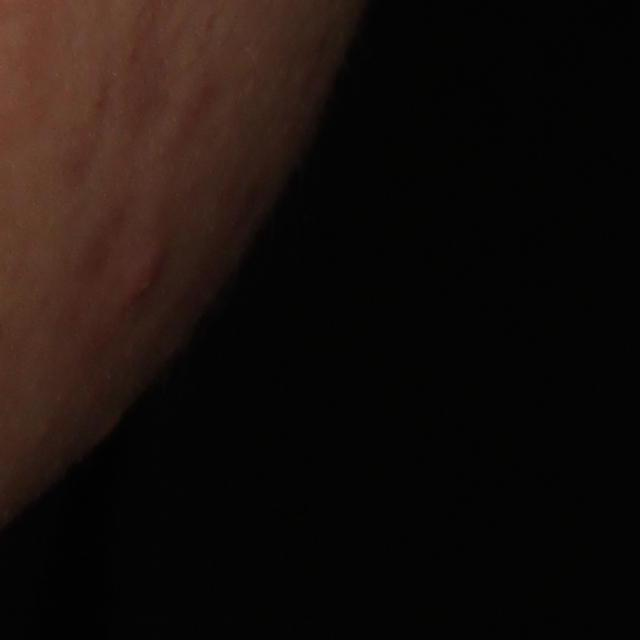papule: (112, 229, 176, 308)
